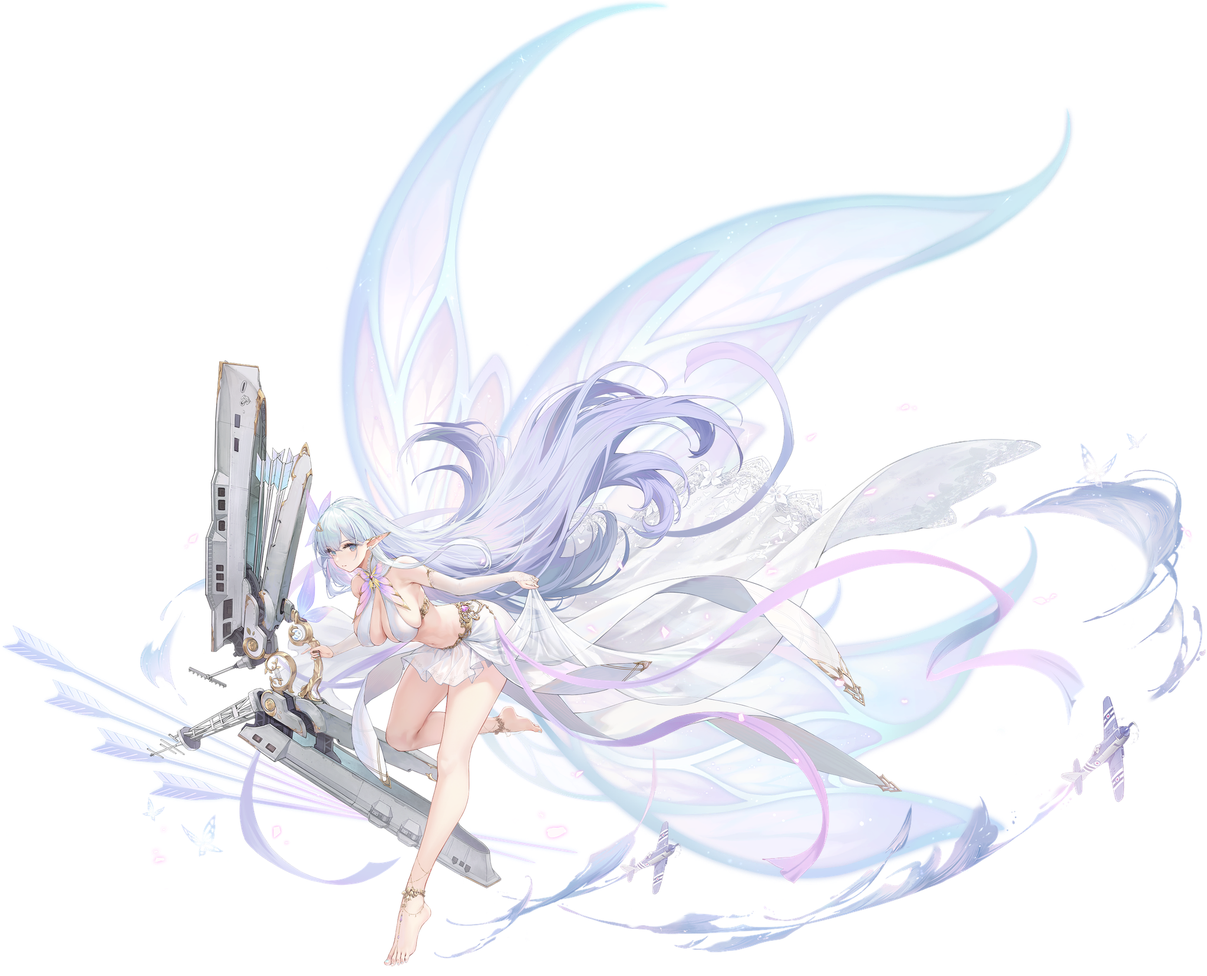person: (236, 433, 651, 975)
